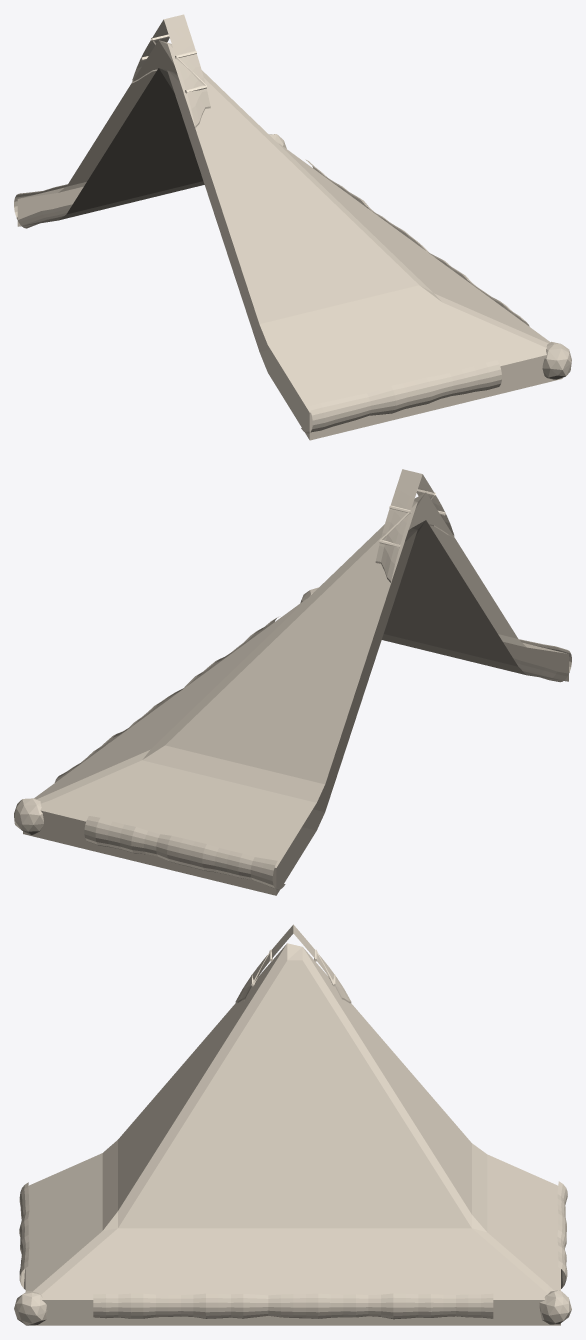
The model's file is SM_VK_RoofThatch_Hip.fbx.
The picture shows the model from 3 angles, top to bottom: view 1: azimuth 30°, elevation 25°; view 2: azimuth 150°, elevation 25°; view 3: azimuth 270°, elevation 25°; orthographic projection. The views are drawn at different scales.
Visible parts, largest first — view 1: SM_VK_RoofThatch_Hip.001; view 2: SM_VK_RoofThatch_Hip.001; view 3: SM_VK_RoofThatch_Hip.001.
Boxes of the visible parts, bbox=[...] form: SM_VK_RoofThatch_Hip.001: bbox=[14, 14, 571, 440]; SM_VK_RoofThatch_Hip.001: bbox=[14, 469, 571, 895]; SM_VK_RoofThatch_Hip.001: bbox=[14, 924, 571, 1325].
Size of the model in its own units: 4.55 by 5.19 by 9.07.
